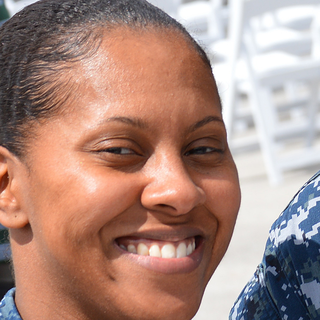eye: (90, 141, 142, 165), (180, 139, 224, 165)
